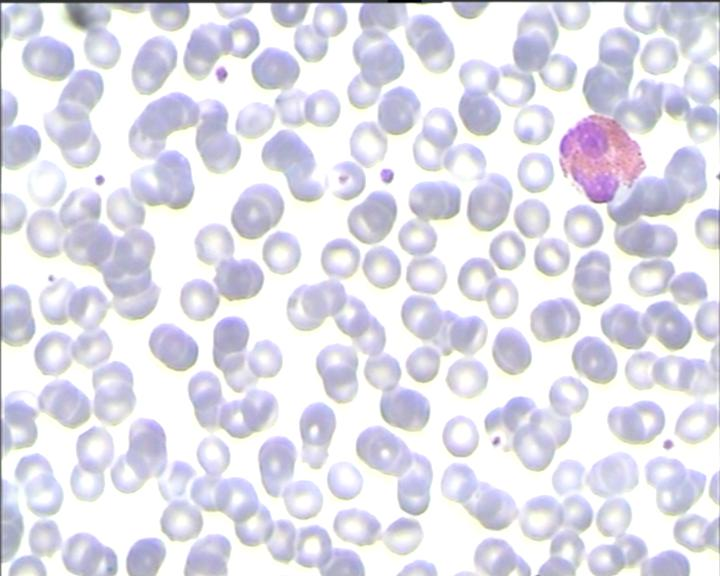eosi: (555, 108, 648, 206)
